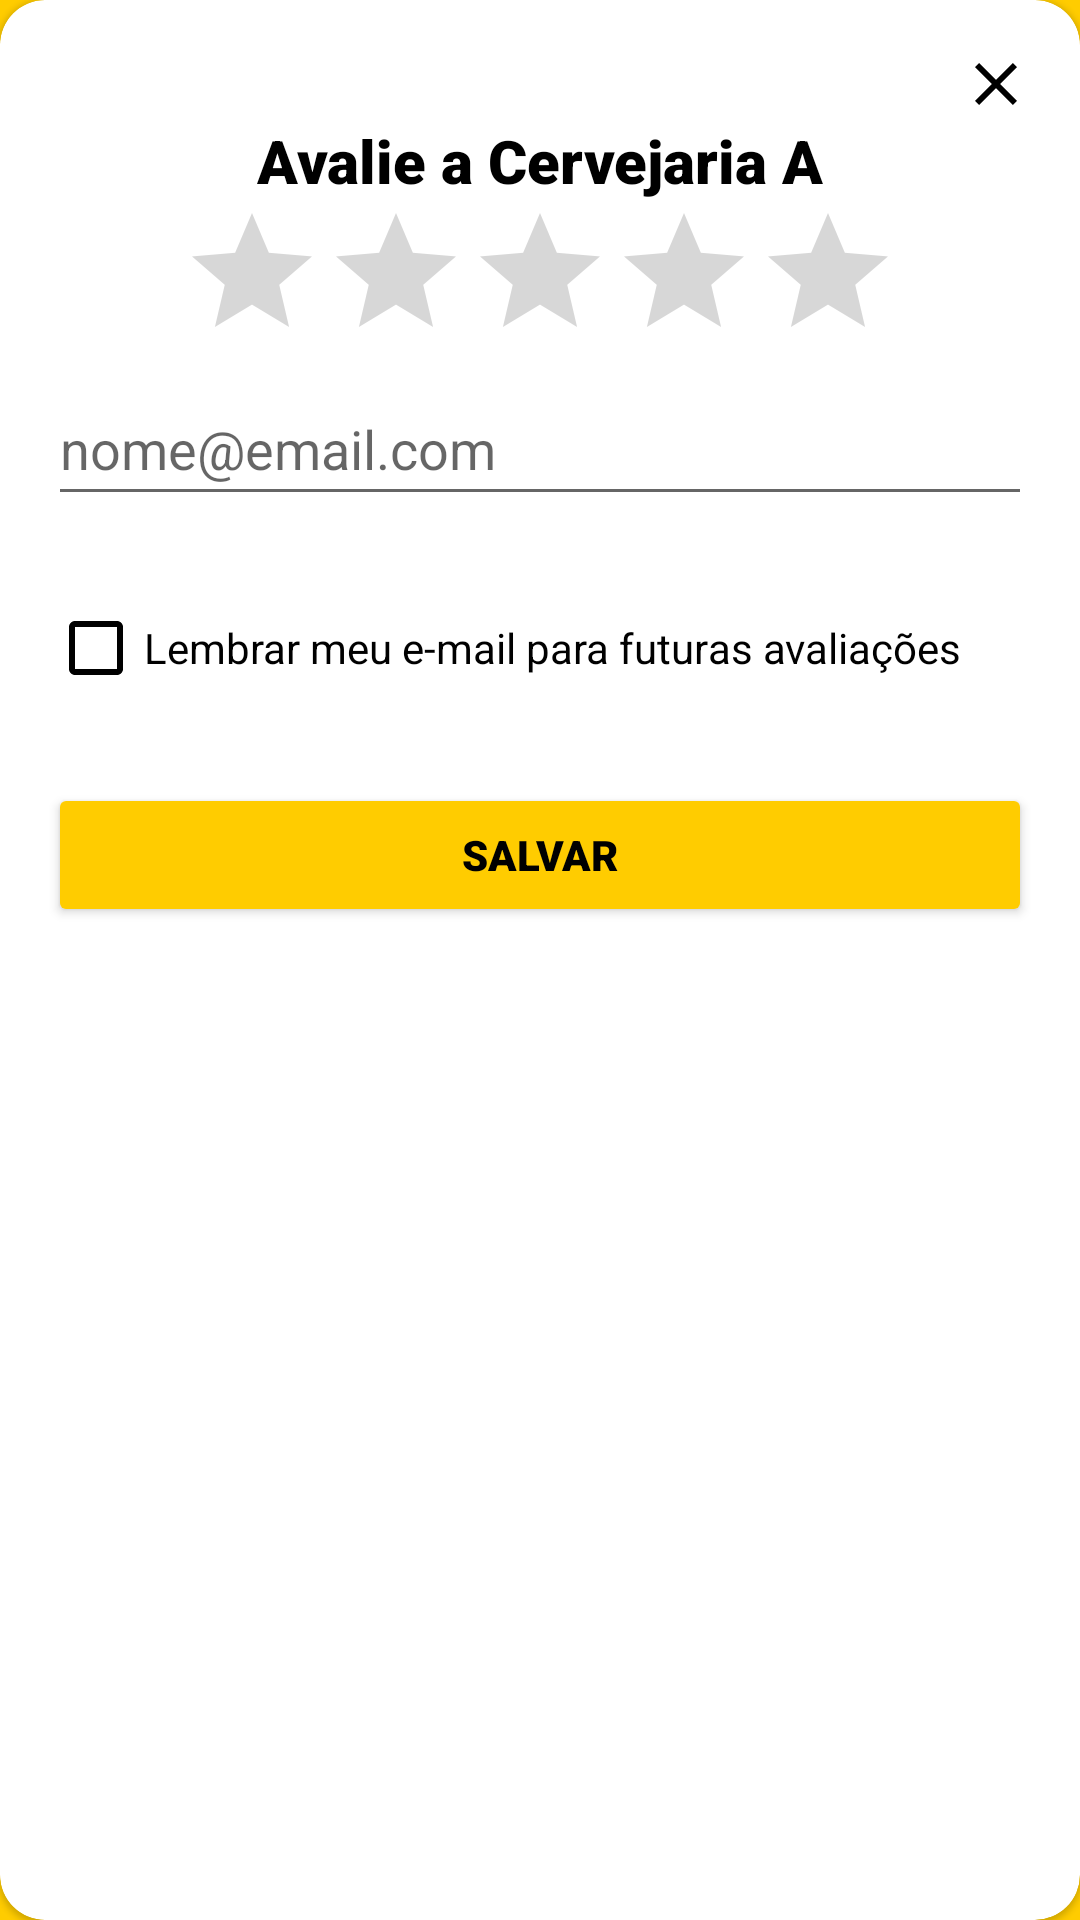

Icons on this 1080px x 1920px Android screen, each with the point to tap as point (x, y):
Exit: point (996, 84)
